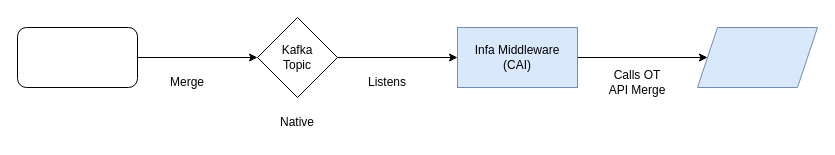
This 835x155 diagram has some shape labels left out. The shapes that lost their labels are listed below. From the top down, each one's centre as x and y in pixels, then its label:
At [77,57]: "Infa MDM".
At [757,57]: "OT".
